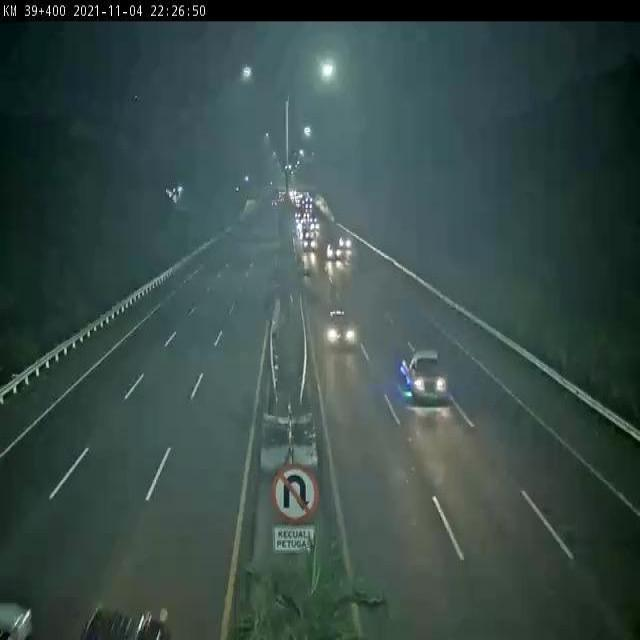car: (324, 308, 356, 351)
truck-m-: (398, 352, 445, 404)
